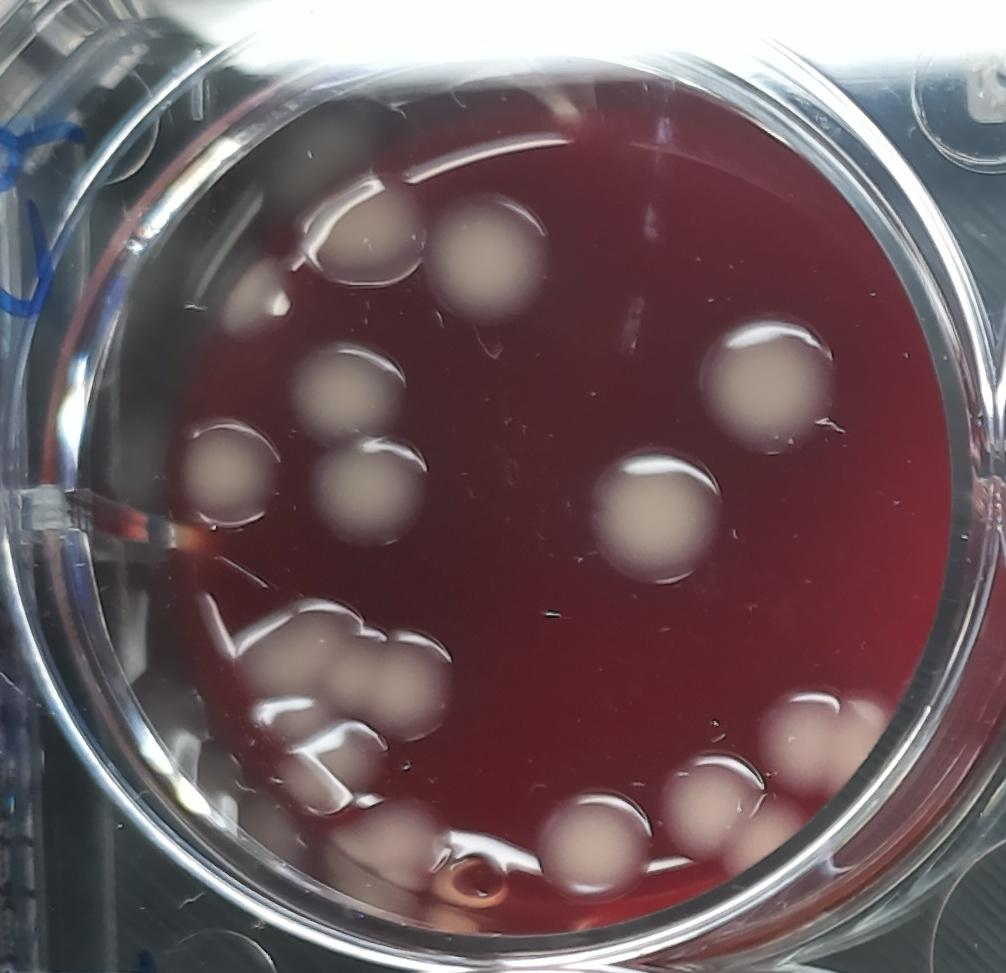vharveyi: (231, 601, 459, 749), (576, 446, 731, 598), (690, 309, 839, 459), (420, 193, 552, 327), (654, 754, 801, 873), (299, 166, 430, 297), (758, 680, 893, 799), (528, 789, 656, 908), (164, 417, 288, 537), (305, 445, 432, 562), (288, 342, 410, 459), (215, 249, 295, 346)
